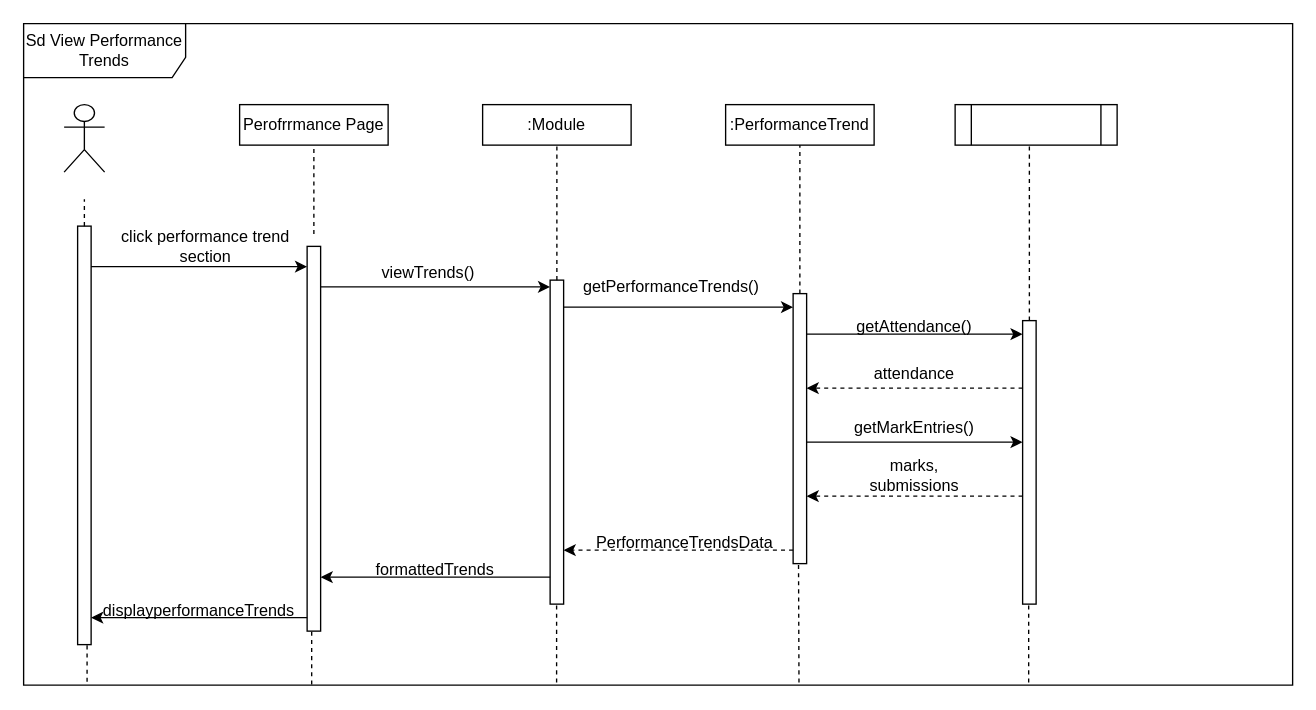
Image size: 1316x710. Some labels were removed from this diagram. The shapes that lost their labels are listed below. From the top down, each one's box as (x1, y1, x2, y2) in pixels, then its label:
(63, 103, 105, 172): Lecturer
(954, 103, 1117, 145): :Database
